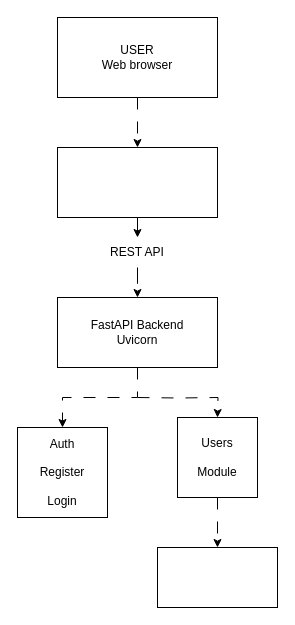
Some shapes in this 295 by 625 pixel diagram are drawn without their labels. The shapes that lost their labels are listed below. From the top down, each one's centre as x and y in pixels, then its label:
At [137,182]: "React Frontend + Vite".
At [217,577]: "Users.json".
